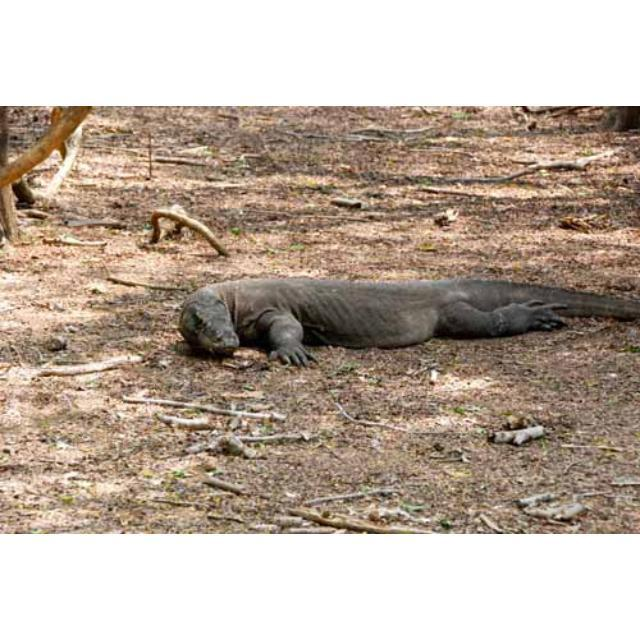KomodoDragon: (179, 278, 633, 368)
